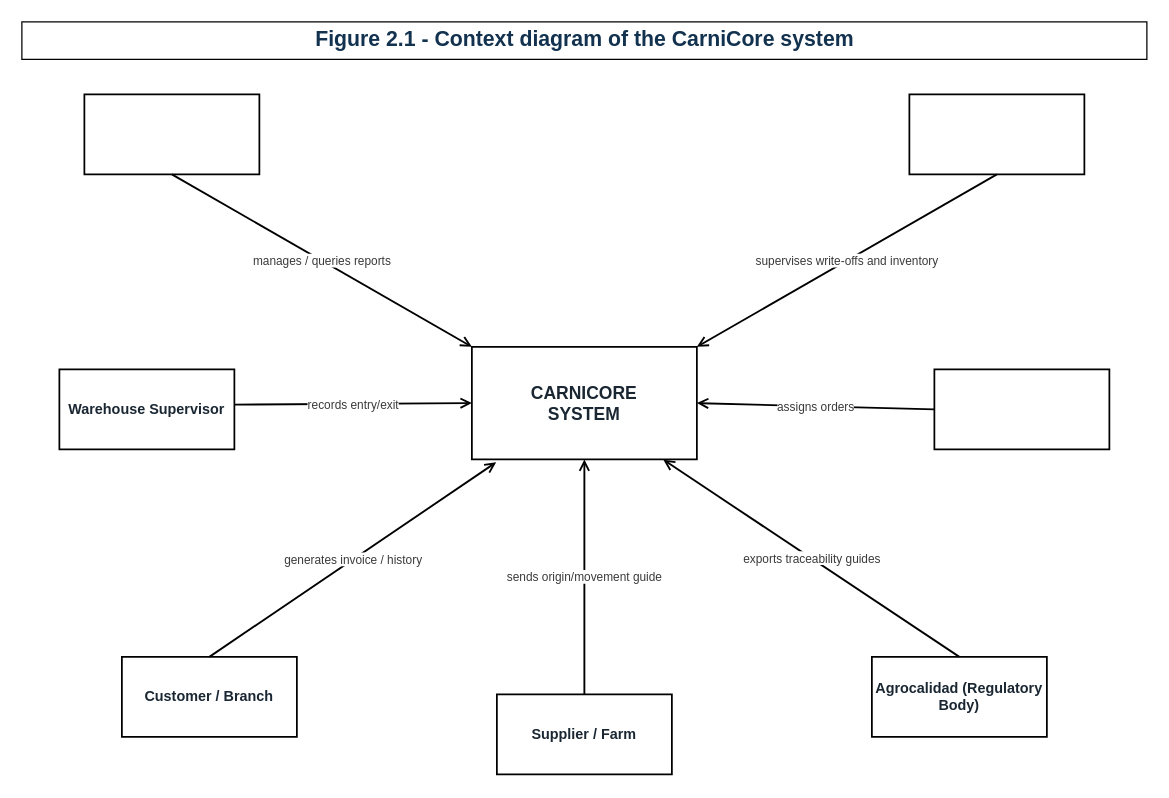
Some shapes in this 1169 by 798 pixel diagram are drawn without their labels. The shapes that lost their labels are listed below. From the top down, each one's centre as x and y in pixels, then its label:
the point at 171,134: Owner
the point at 996,134: General Administrator
the point at 1021,409: Butcher
